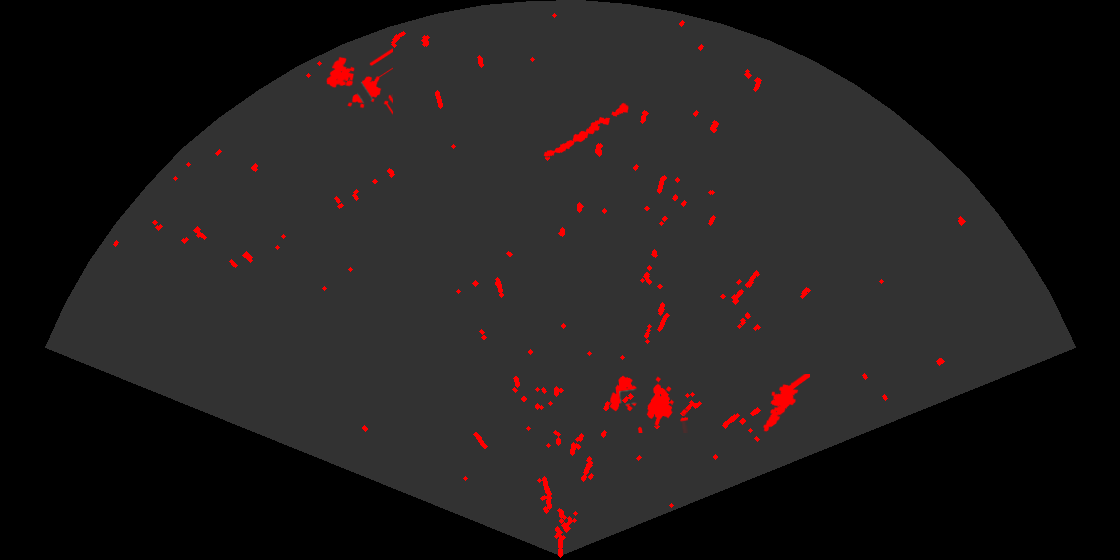cage: (325, 46, 393, 116), (608, 374, 688, 433)
chain: (542, 101, 630, 158)
frogman: (761, 374, 810, 433)
